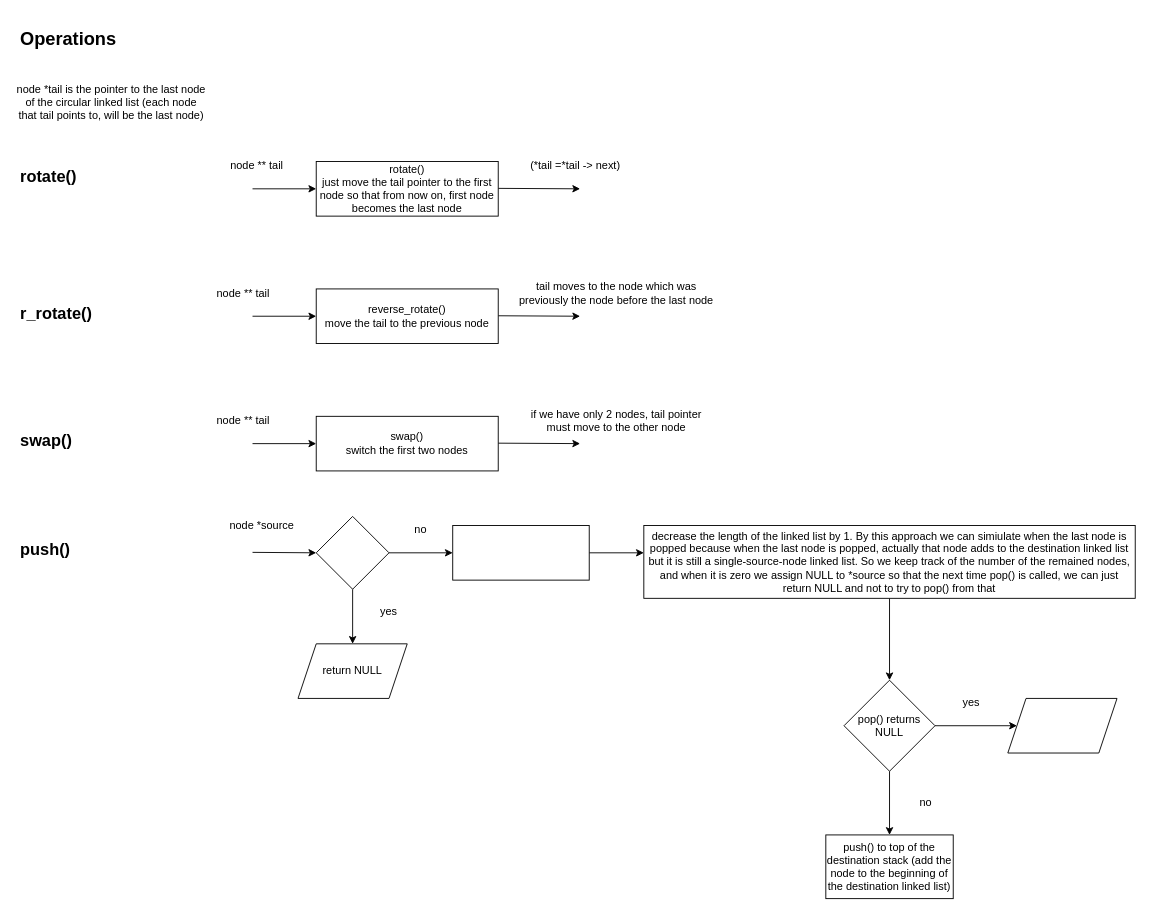
Image size: 1151x915. Some labels were removed from this diagram. The centre of each missing label's shape, as x and y in pixels:
"if *source == NULL" goes at (x=352, y=552).
"pop() from top of the source stack (first node of the source linked list)" goes at (x=520, y=552).
"return" goes at (x=1062, y=725).
